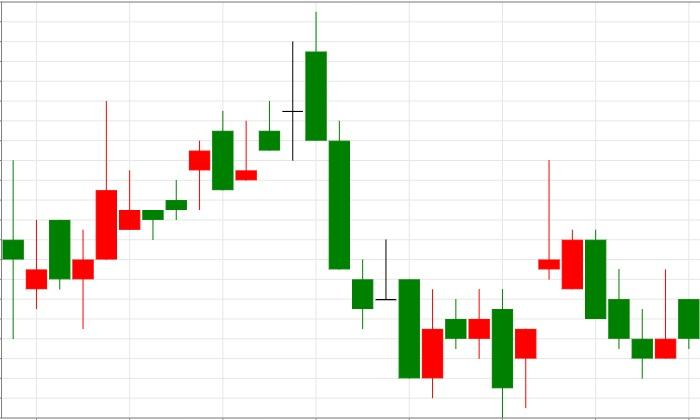hammer_rise: (305, 11, 537, 420)
three_black_crows_fall: (72, 12, 373, 329)
